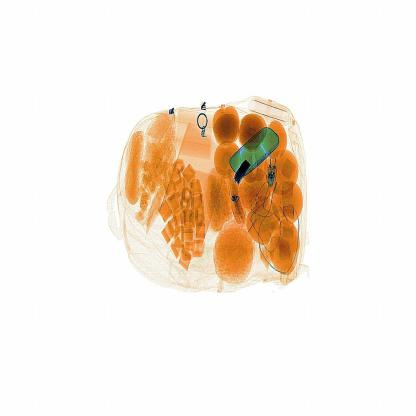scissors: (229, 159, 251, 189)
